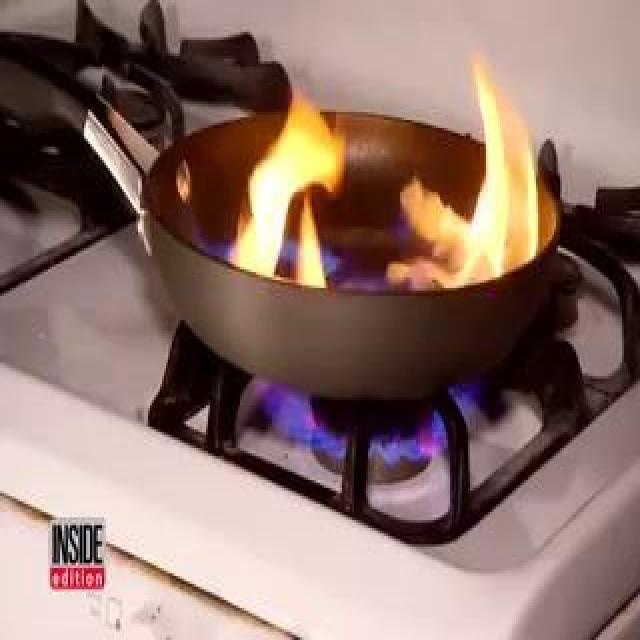Fire: (224, 34, 556, 298)
